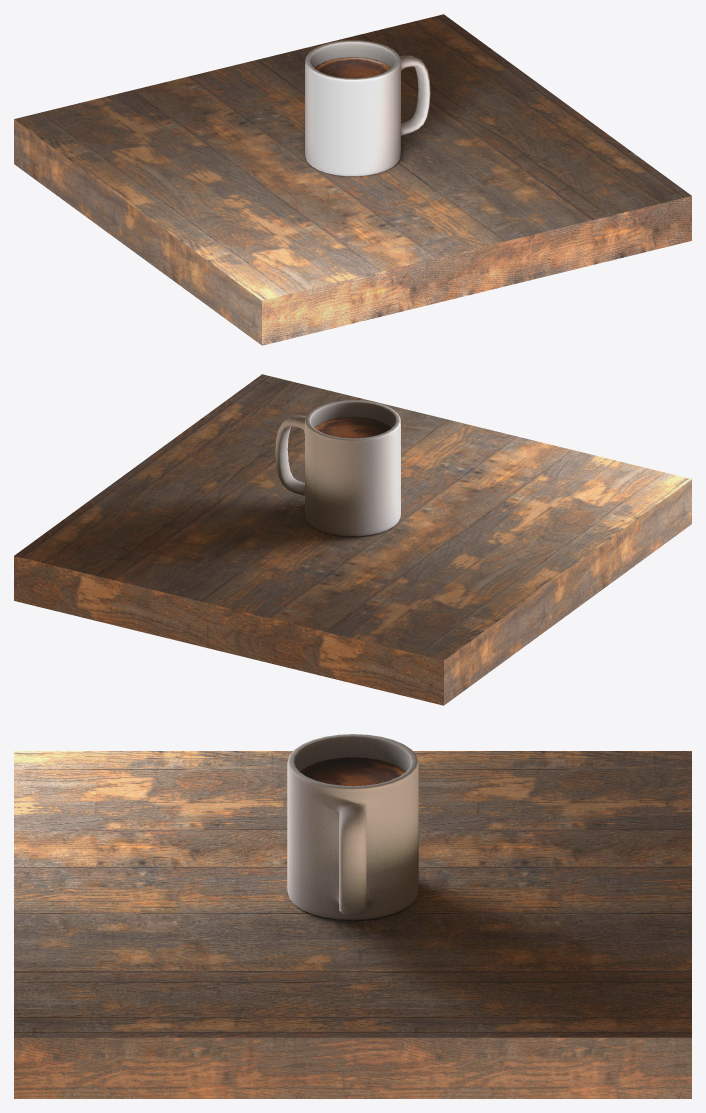
The model's file is bakedModel.glb.
3 views of the same model, one above another, from view 1: azimuth 30°, elevation 25°; view 2: azimuth 150°, elevation 25°; view 3: azimuth 270°, elevation 25° (orthographic). The views are drawn at different scales.
Visible parts, largest first — view 1: baked; view 2: baked; view 3: baked.
Boxes of the visible parts, box(x1,y1,x2,y2) form: baked: box(14, 14, 691, 345); baked: box(14, 374, 691, 705); baked: box(14, 734, 691, 1098).
Bounding box in the file's own units: 10 × 3.17 × 10.
Materials: 1 (1 with a texture image).
